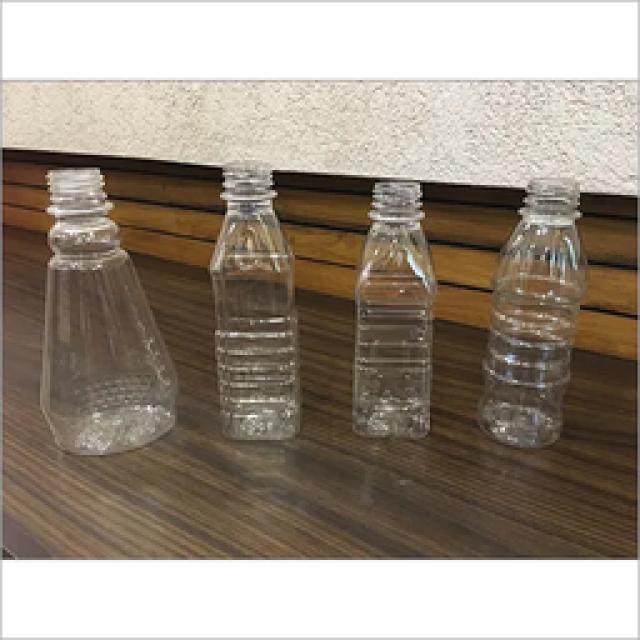plastic_soda_bottles: (34, 167, 182, 454)
plastic_water_bottles: (480, 182, 588, 447), (207, 155, 303, 440), (353, 184, 438, 440)
